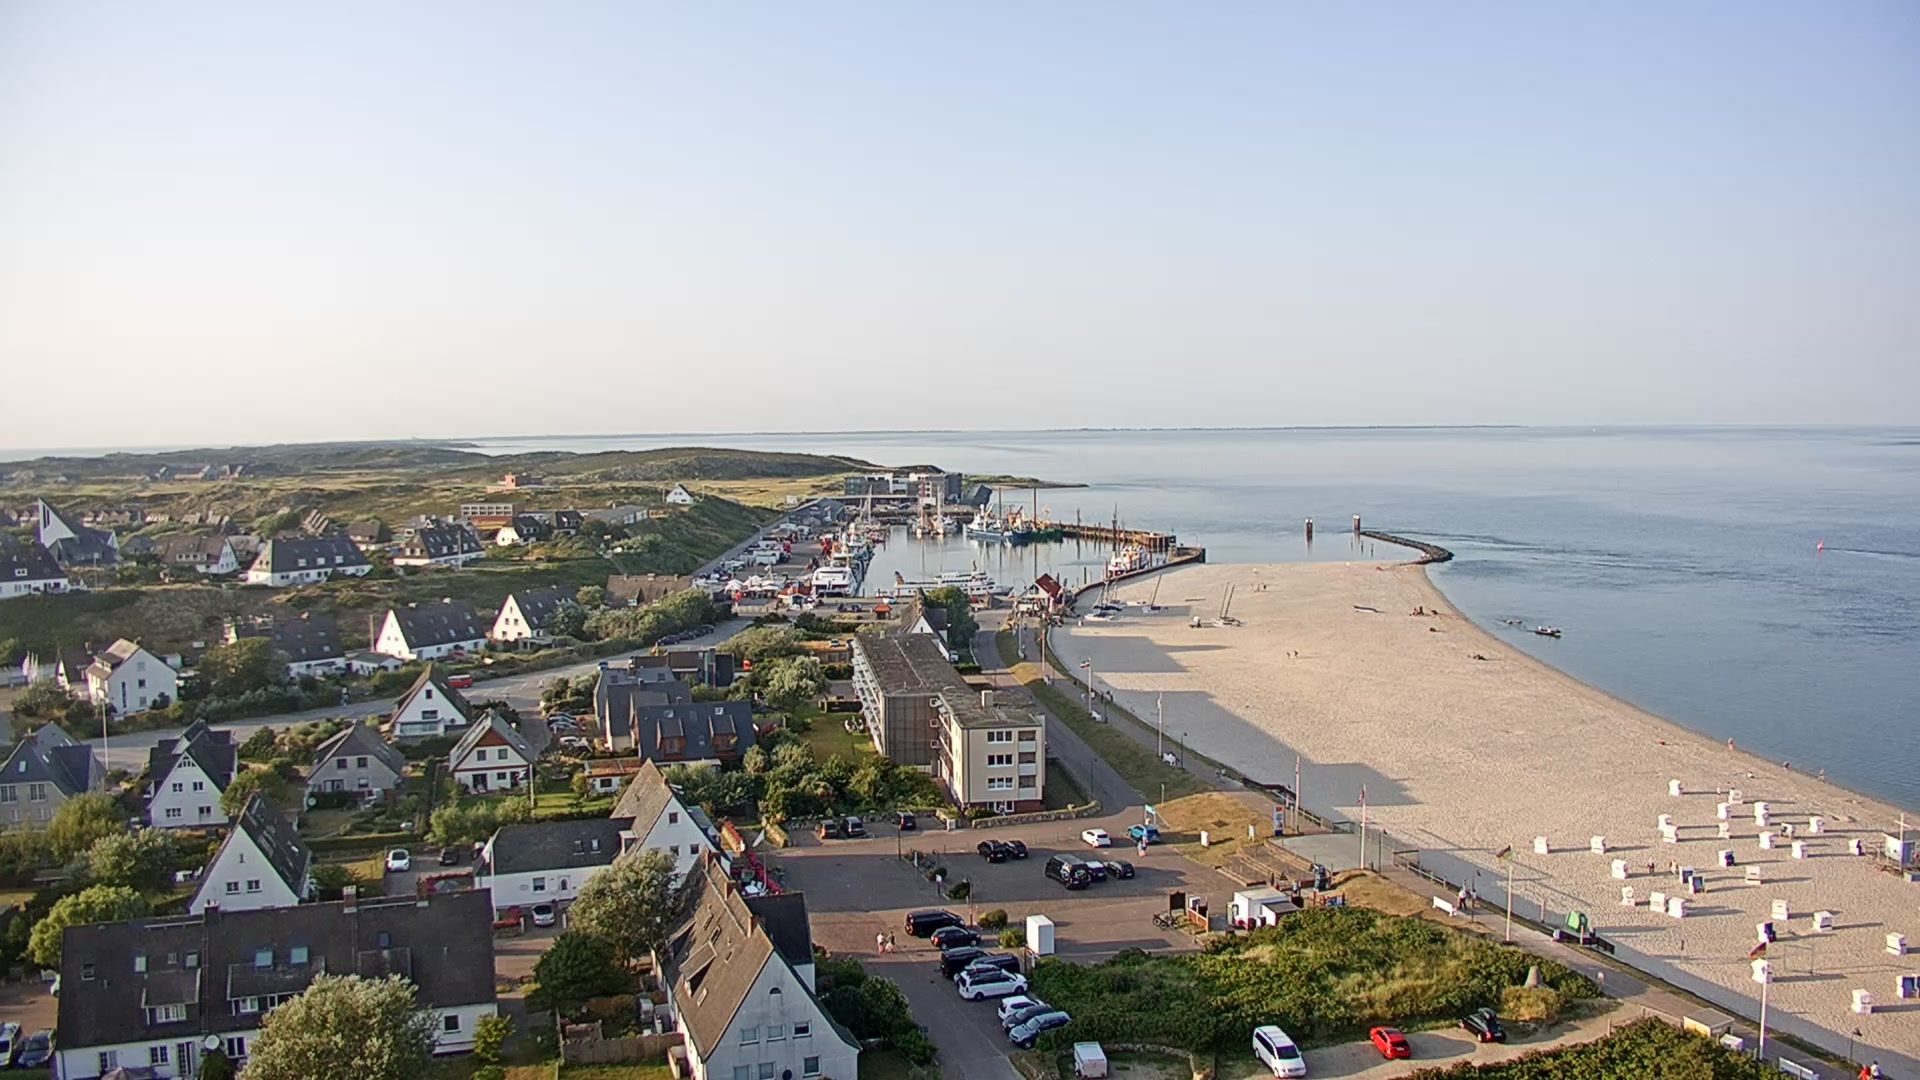human: (885, 929, 896, 953), (1456, 885, 1466, 910), (1857, 1062, 1870, 1080), (1134, 837, 1146, 857), (1871, 1059, 1883, 1079), (876, 929, 885, 953), (1646, 854, 1656, 875), (1726, 734, 1735, 752), (1470, 887, 1478, 907), (1670, 858, 1678, 874), (1220, 765, 1227, 781), (1214, 765, 1221, 781), (1418, 605, 1425, 615), (1412, 606, 1418, 615)
land: (938, 945, 1027, 1001), (1251, 1023, 1307, 1079), (1007, 1010, 1071, 1049), (1456, 1003, 1508, 1044), (903, 904, 967, 938), (14, 1026, 57, 1069), (1044, 853, 1092, 891), (998, 1003, 1055, 1032), (1368, 1025, 1413, 1060), (928, 924, 982, 950), (995, 994, 1046, 1020), (1, 1019, 24, 1070), (973, 838, 1005, 865), (528, 901, 556, 927), (1102, 857, 1135, 879), (1127, 823, 1161, 844), (838, 815, 866, 839), (1079, 828, 1113, 848), (385, 848, 413, 872), (889, 808, 917, 831), (1000, 838, 1028, 859), (813, 818, 840, 840), (1083, 859, 1107, 882), (437, 845, 461, 867), (961, 944, 997, 959), (444, 674, 473, 688), (549, 721, 580, 733), (547, 715, 578, 727), (547, 711, 578, 723), (47, 971, 61, 997), (558, 735, 581, 749), (654, 634, 680, 645), (1159, 916, 1180, 930), (1152, 912, 1173, 926), (955, 961, 959, 1001), (678, 629, 691, 639), (700, 623, 715, 632), (949, 649, 959, 663), (597, 661, 609, 671), (851, 604, 862, 613), (692, 627, 703, 636), (829, 641, 840, 648)
sea: (892, 561, 1012, 597), (966, 503, 1034, 545), (807, 548, 863, 597), (1098, 539, 1149, 579), (1142, 569, 1171, 613), (1213, 581, 1242, 625), (854, 484, 882, 529), (1084, 582, 1113, 622), (1093, 573, 1122, 613), (912, 481, 934, 533), (931, 484, 948, 532), (1536, 623, 1562, 636), (942, 513, 958, 534)
